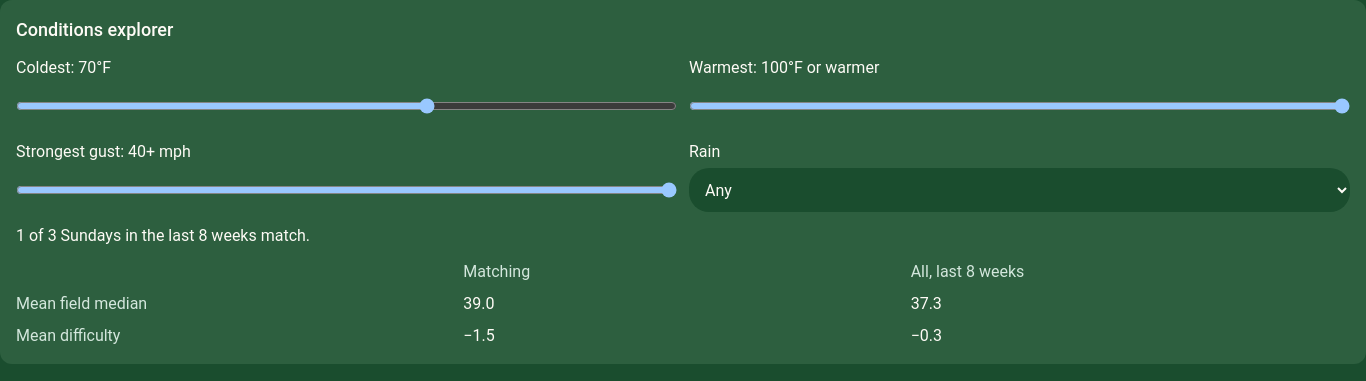
ConditionsExplorer › reads the temperature range from the URL and never lets it cross
This screenshot has width=1366, height=381.
expect the text "1 of 3 Sundays in the last 8 weeks match." is shown: met, box [16,226,310,245]
Step 1. Set the slider labelled "Coldest: 70°F" to "90" → (588, 106), box [16,84,677,128]
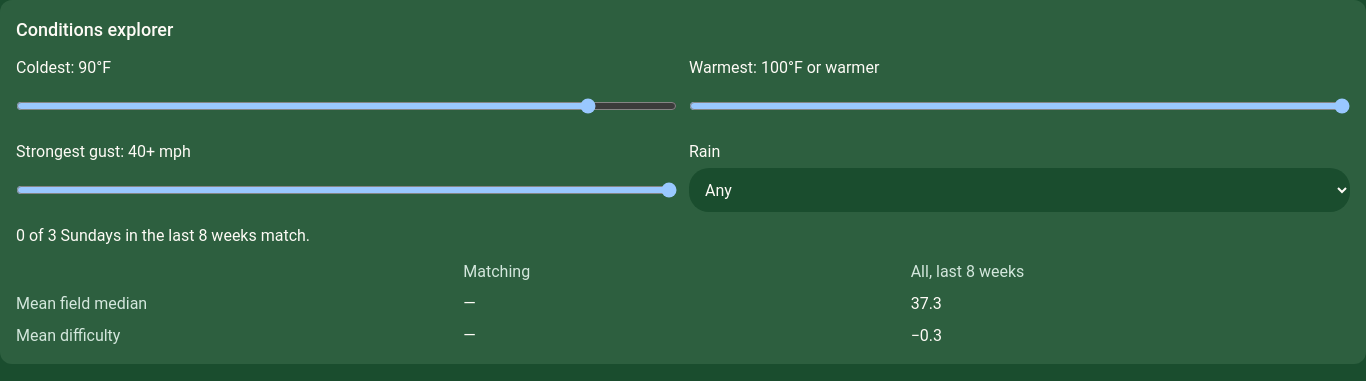
expect the text "Coldest: 90°F" is shown: met, box [16,58,111,77]
Step 2. Set the slider labelled "Warmest: 100°F or warmer" to "40" → (858, 106), box [689,84,1350,128]
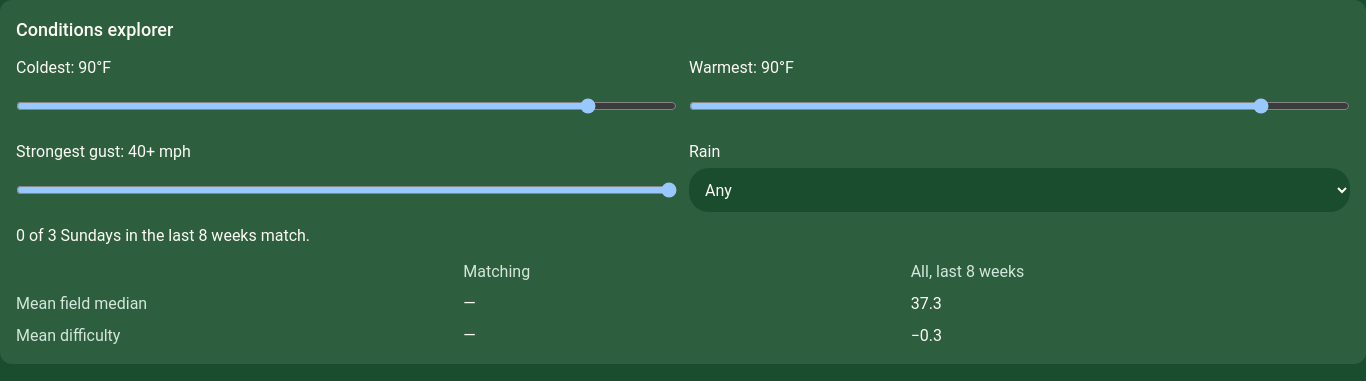
expect the text "0 of 3 Sundays in the last 8 weeks match." is shown: met, box [16,226,310,245]
expect the text "Warmest: 90°F" is shown: met, box [689,58,794,77]
